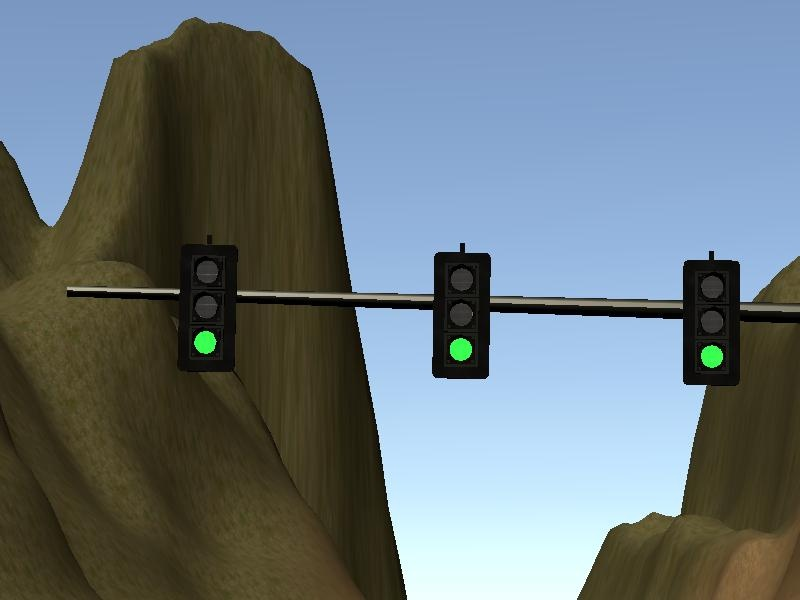green: (430, 252, 493, 378), (680, 261, 742, 388), (178, 244, 236, 370)
